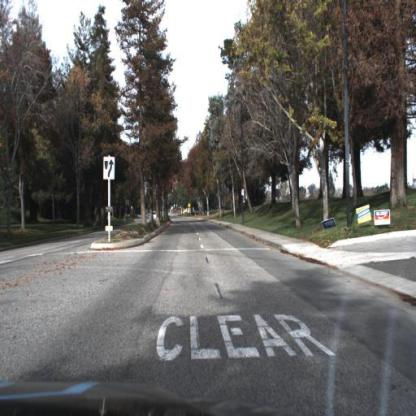car: (151, 212, 158, 221)
